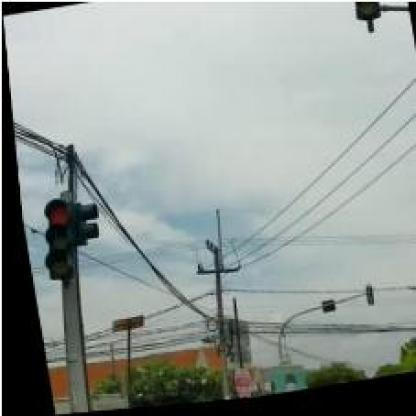red: (29, 197, 77, 283), (348, 1, 385, 28)
